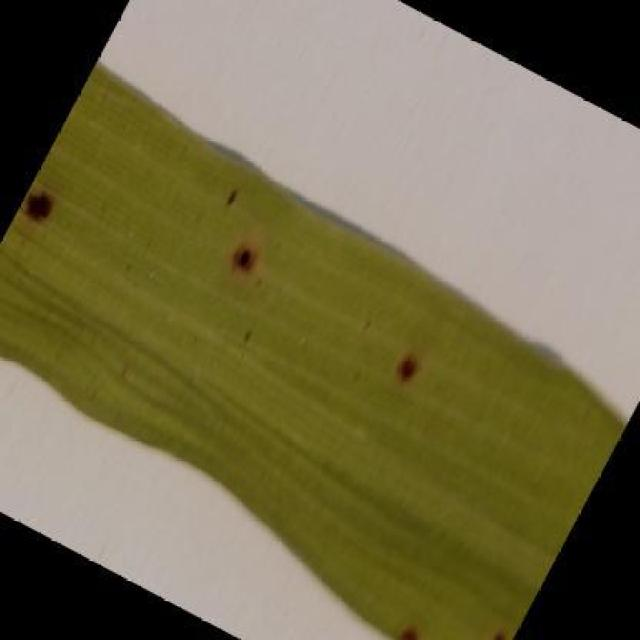Leaf_Blast: (9, 160, 74, 238), (377, 324, 441, 398), (211, 226, 275, 292), (383, 594, 445, 640), (473, 607, 521, 640), (215, 176, 242, 219)
